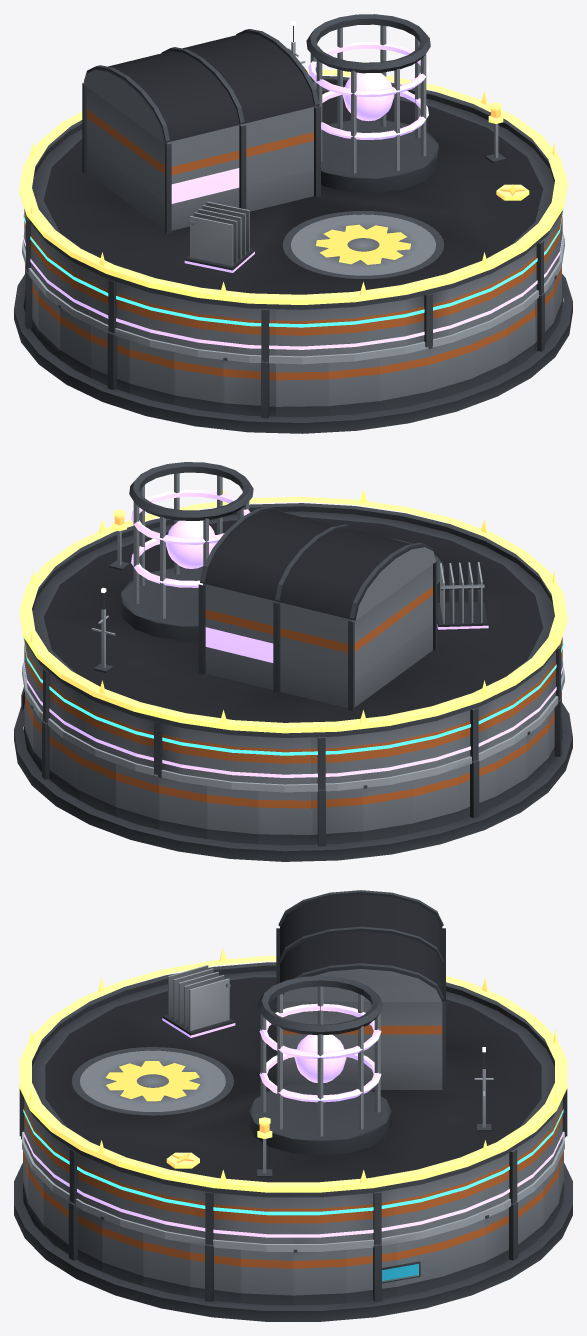
File: metamaterial_foundry_s.glb
The picture shows the model from 3 angles, top to bottom: view 1: azimuth 30°, elevation 25°; view 2: azimuth 150°, elevation 25°; view 3: azimuth 270°, elevation 25°; orthographic projection.
Visible parts, largest first — view 1: Roof, Base, L4, Wall_20, Wall_21, Wall_22, Wall_19, Wall_23, Wall_18, Wall_24, Upper_20, Upper_21 (+32 smaller); view 2: Roof, Base, Wall_11, Wall_10, Wall_09, Wall_12, Wall_08, Wall_13, L4, Wall_07, Upper_11, Upper_10 (+34 smaller); view 3: Roof, Base, L4, Wall_00, Wall_31, Wall_30, Wall_01, Wall_29, Wall_03, Wall_28, Upper_01, Upper_30 (+32 smaller).
Boxes of the visible parts, box(x1,y1,x2,y2) form: Roof: box(28, 14, 561, 309); Base: box(14, 274, 572, 433); L4: box(184, 201, 254, 272); Wall_20: box(223, 357, 275, 418); Wall_21: box(276, 363, 328, 417); Wall_22: box(328, 358, 379, 415); Wall_19: box(174, 352, 223, 412); Wall_23: box(380, 348, 427, 410); Wall_18: box(129, 340, 174, 404); Wall_24: box(428, 336, 470, 401); Upper_20: box(224, 305, 275, 361); Upper_21: box(276, 308, 328, 356); Roof: box(26, 462, 558, 737); Base: box(14, 702, 572, 861); Wall_11: box(311, 788, 363, 846); Wall_10: box(258, 791, 310, 845); Wall_09: box(207, 786, 258, 844); Wall_12: box(363, 780, 412, 841); Wall_08: box(158, 775, 206, 838); Wall_13: box(412, 769, 457, 833); L4: box(437, 562, 488, 629); Wall_07: box(115, 764, 158, 829); Upper_11: box(311, 733, 362, 789); Upper_10: box(258, 736, 310, 784); Roof: box(30, 890, 556, 1197); Base: box(14, 1163, 572, 1321); L4: box(162, 965, 235, 1037); Wall_00: box(293, 1249, 346, 1305); Wall_31: box(240, 1250, 293, 1305); Wall_30: box(190, 1243, 240, 1303); Wall_01: box(346, 1243, 396, 1303); Wall_29: box(143, 1233, 189, 1296); Wall_03: box(443, 1219, 484, 1285); Wall_28: box(101, 1216, 143, 1285); Upper_01: box(346, 1189, 396, 1245); Upper_30: box(190, 1189, 240, 1245).
Bounding box in the file's own units: 11.74 × 5.74 × 11.74.
